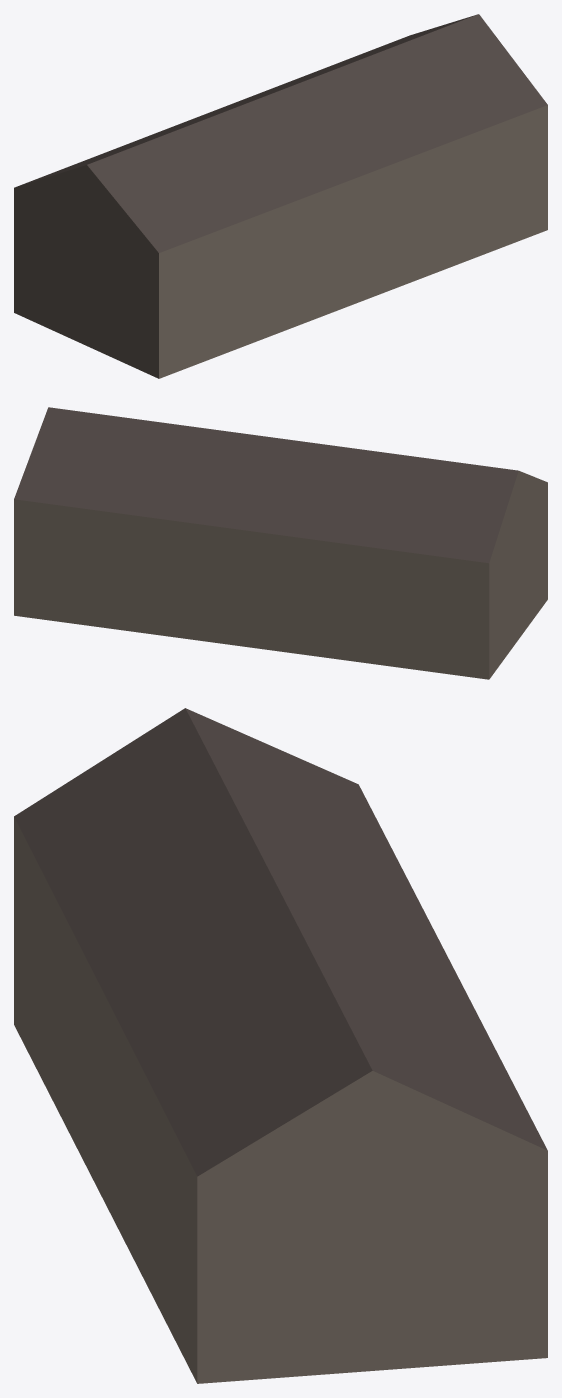
The picture shows the model from 3 angles, top to bottom: view 1: azimuth 30°, elevation 25°; view 2: azimuth 150°, elevation 25°; view 3: azimuth 270°, elevation 25°; orthographic projection. The views are drawn at different scales.
Parts seen in each view (by area): view 1: HP-w505649229; view 2: HP-w505649229; view 3: HP-w505649229.
Part boxes in pixels (bbox=[...]): HP-w505649229: bbox=[14, 14, 547, 378]; HP-w505649229: bbox=[14, 407, 547, 679]; HP-w505649229: bbox=[14, 708, 547, 1383].
Size of the model in its own units: 24.36 by 8.69 by 14.01.
